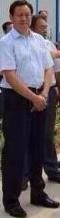boots: (5, 202, 27, 218), (20, 179, 28, 190)
ppe-suit: (0, 27, 59, 212)
